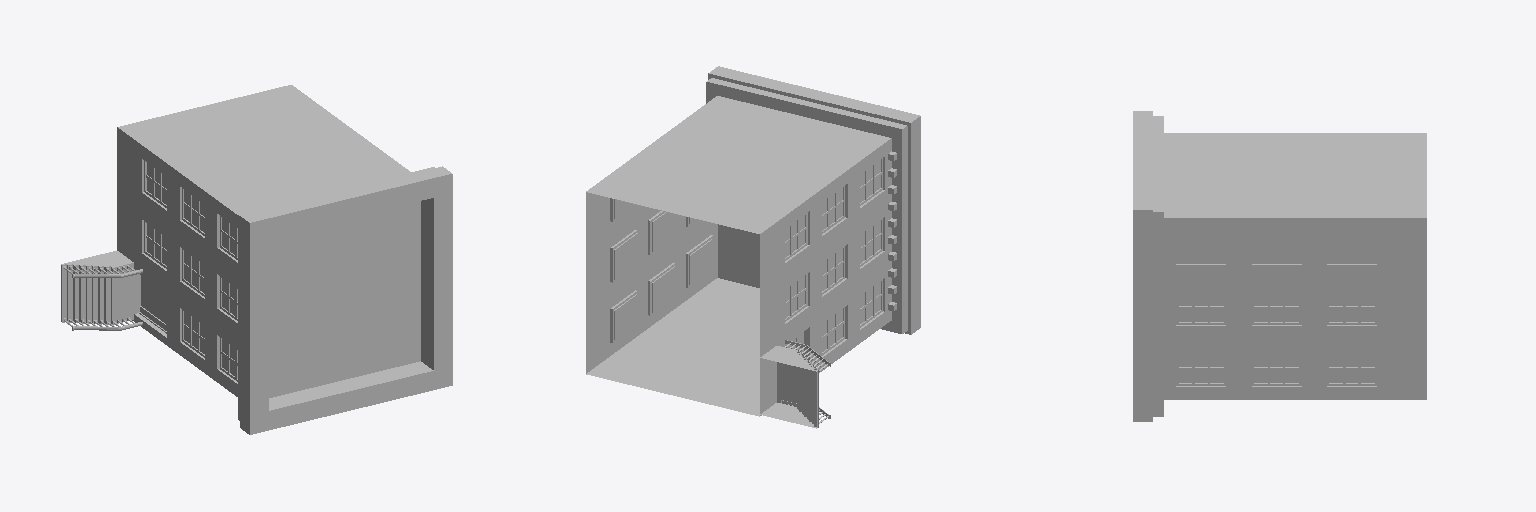
File: building3.obj
3 renders of one model, left to right at view 1: azimuth 30°, elevation 25°; view 2: azimuth 150°, elevation 25°; view 3: azimuth 270°, elevation 25°, orthographic.
Visible parts, largest first — view 1: building_3; view 2: building_3; view 3: building_3.
Boxes of the visible parts, <box> form: building_3: <box>61,85,452,434</box>; building_3: <box>586,66,920,428</box>; building_3: <box>1133,111,1426,421</box>.
Bounding box in the file's own units: 11.31 × 9.31 × 11.67.